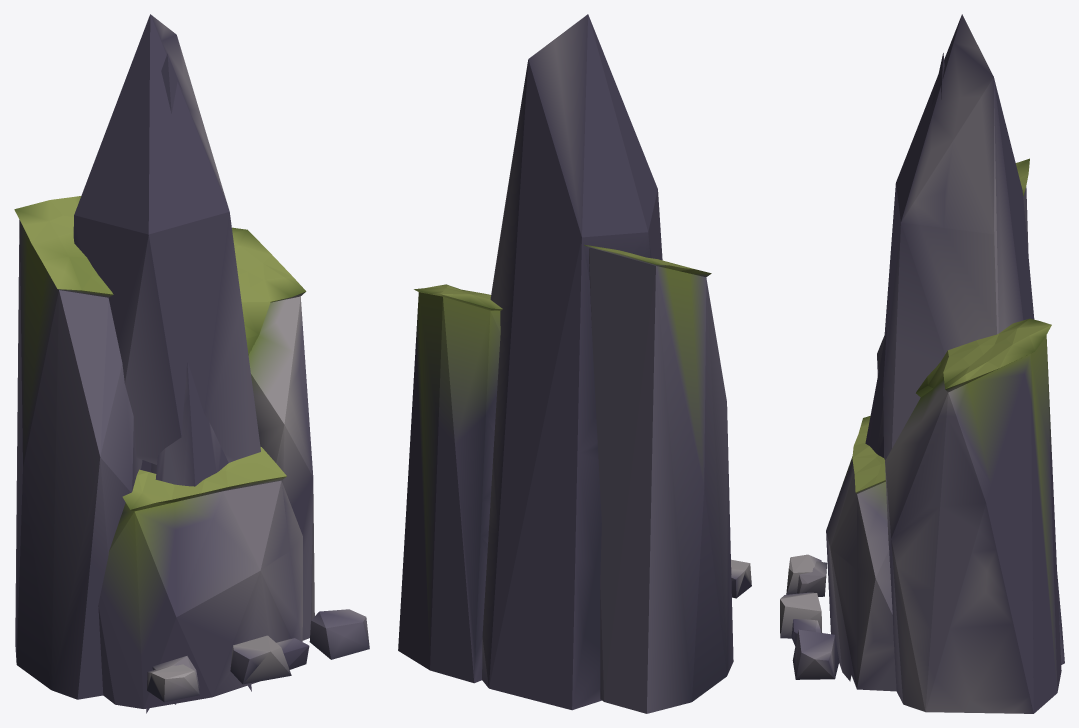
The model's file is mtn_cliff_b-lod1.glb.
The picture shows the model from 3 angles, left to right: view 1: azimuth 30°, elevation 25°; view 2: azimuth 150°, elevation 25°; view 3: azimuth 270°, elevation 25°; orthographic projection. The views are drawn at different scales.
Parts seen in each view (by area): view 1: mtn_cliff_b; view 2: mtn_cliff_b; view 3: mtn_cliff_b.
Part boxes in pixels (<box>): mtn_cliff_b: <box>14,14,369,713</box>; mtn_cliff_b: <box>398,14,751,713</box>; mtn_cliff_b: <box>780,14,1064,713</box>.
Size of the model in its own units: 16.72 by 38 by 15.23.
